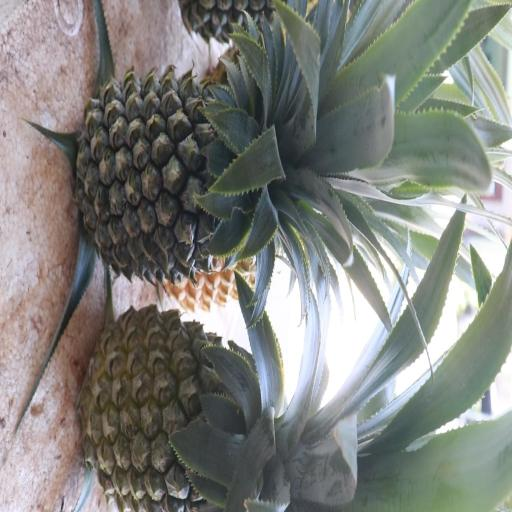------------------------------: (79, 308, 286, 512)
